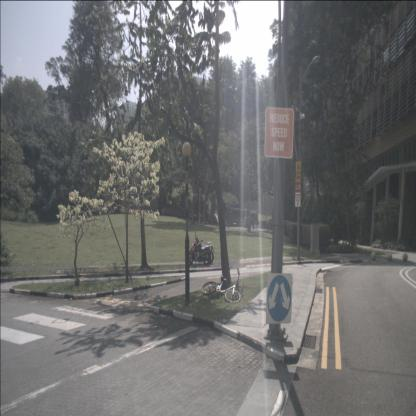vehicle-bicycle: (200, 267, 242, 305)
vehicle-motorcycle: (187, 230, 215, 266)
